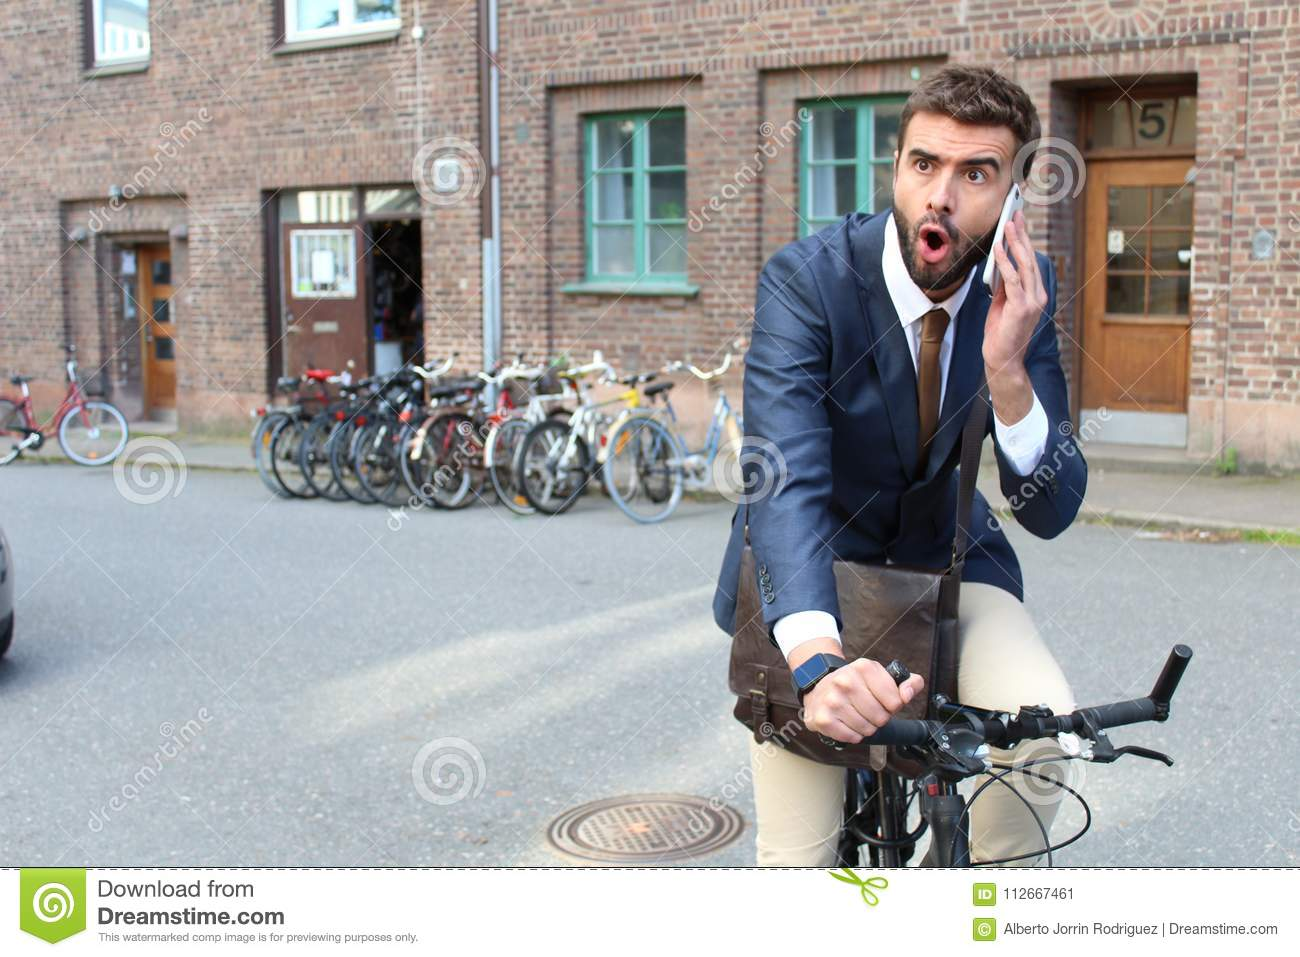phone: (981, 182, 1024, 306)
talk: (899, 142, 1048, 386)
